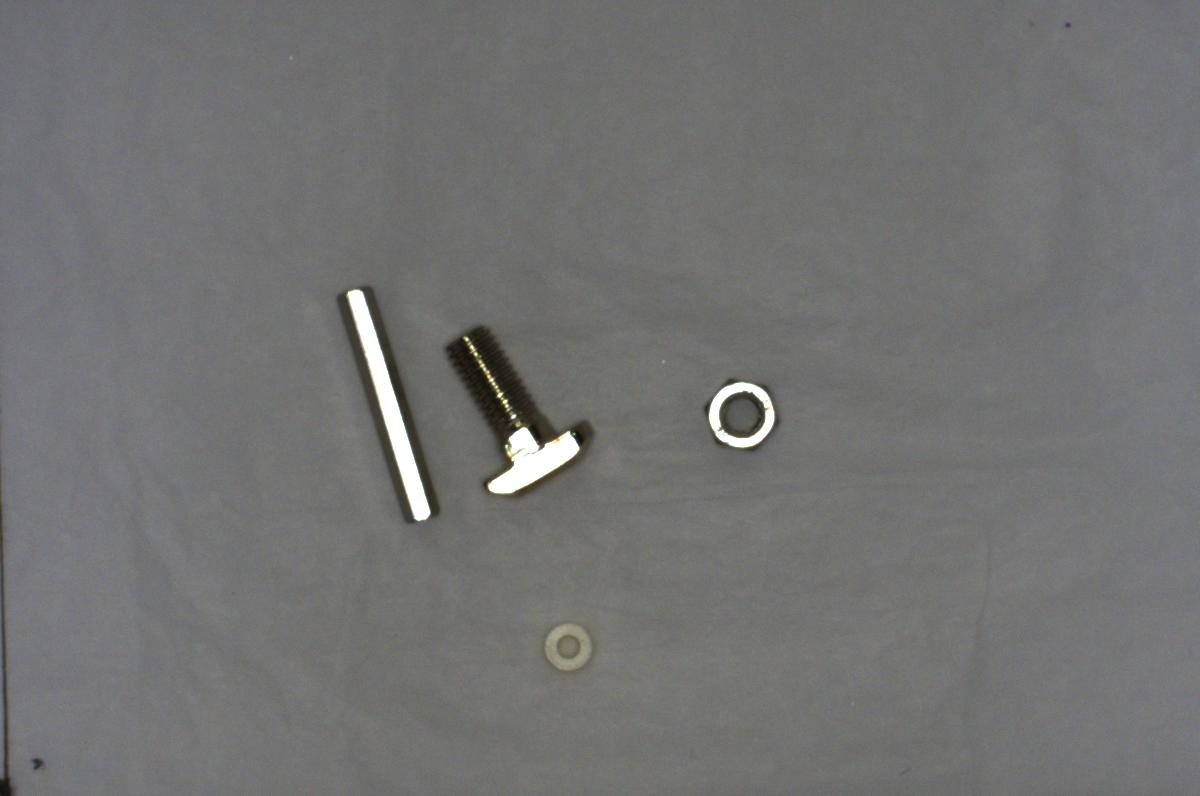Double hexagonal column: (332, 268, 441, 528)
Hexagon nut: (688, 363, 794, 462)
Plastic cushion pillar: (537, 608, 607, 685)
T-shaped screw: (427, 310, 610, 507)
